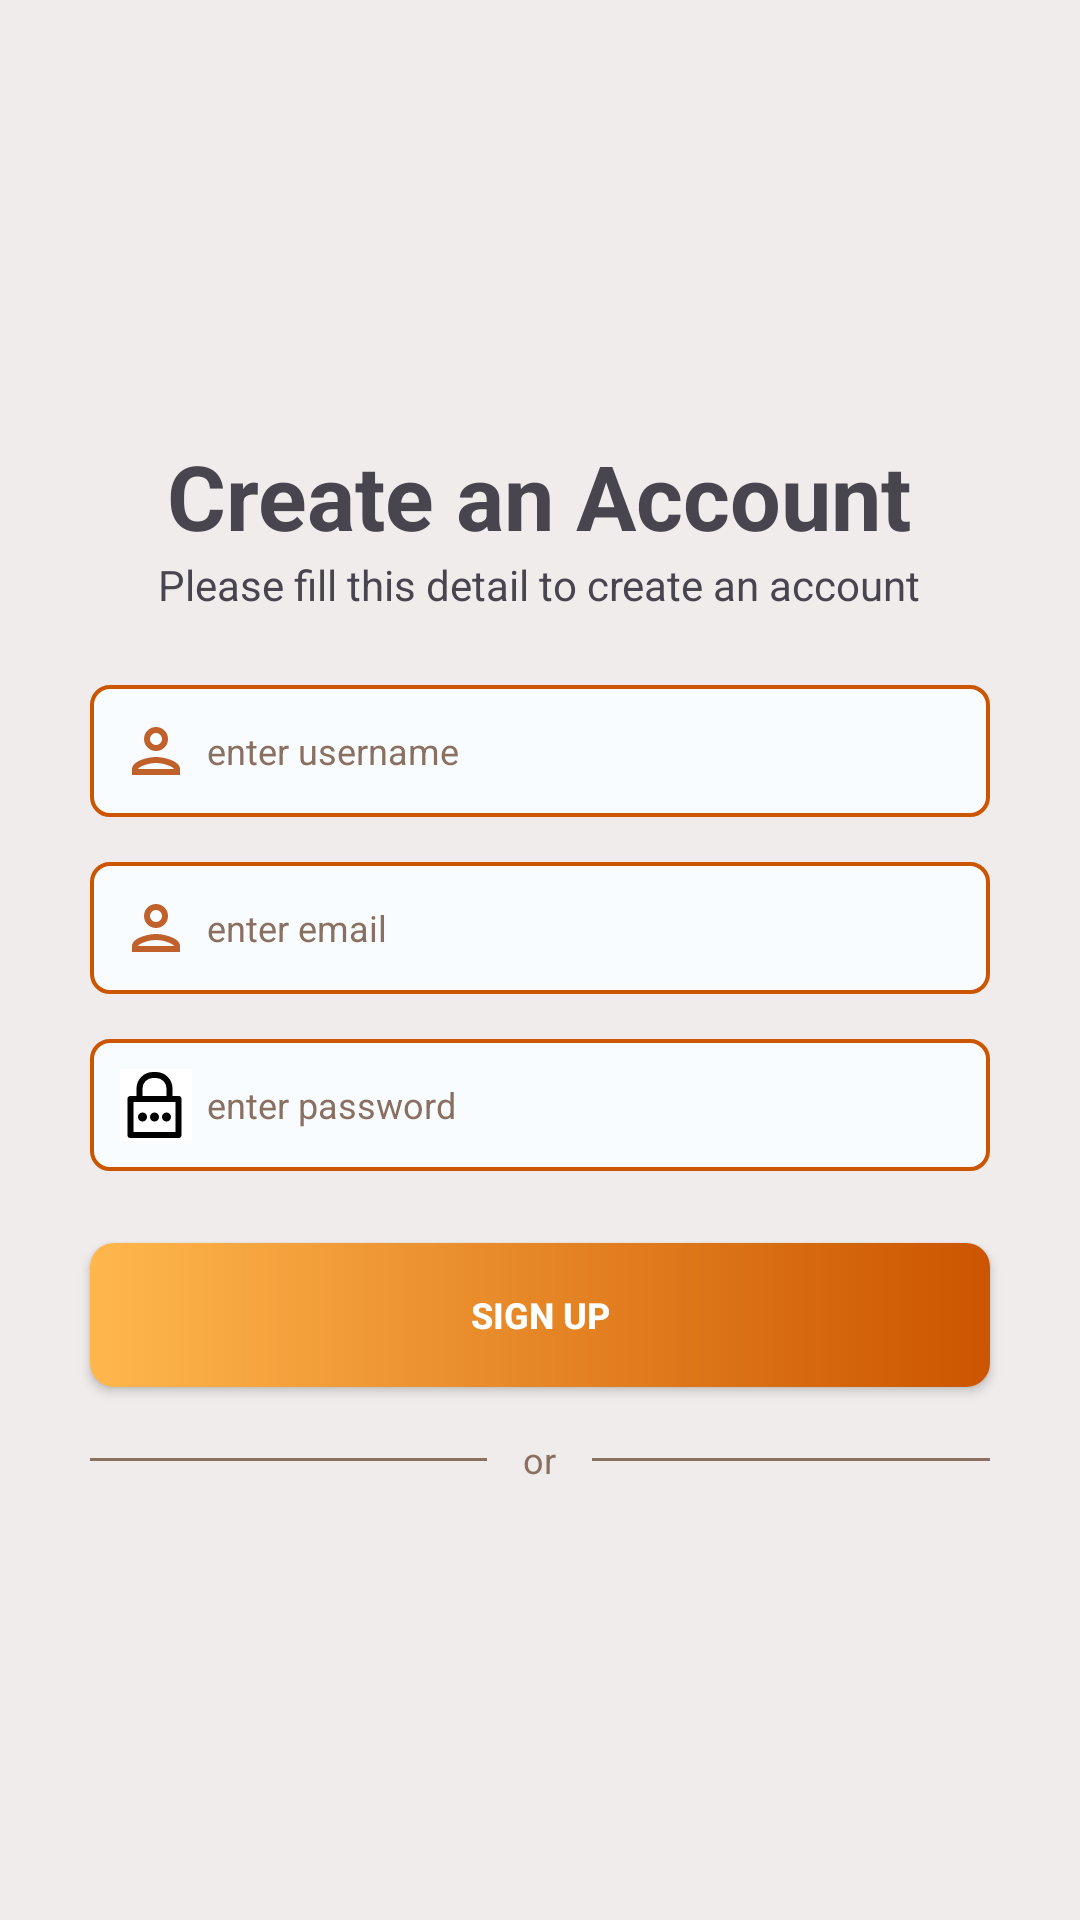

Icon bounding boxes for this 1080w x 1920h phone screenshot, format [x1=x1, y1=y1, x2=x2, y2=y2]:
password lock: [x1=127, y1=1072, x2=182, y2=1138]
person: [x1=132, y1=727, x2=180, y2=775], [x1=132, y1=904, x2=180, y2=952]
